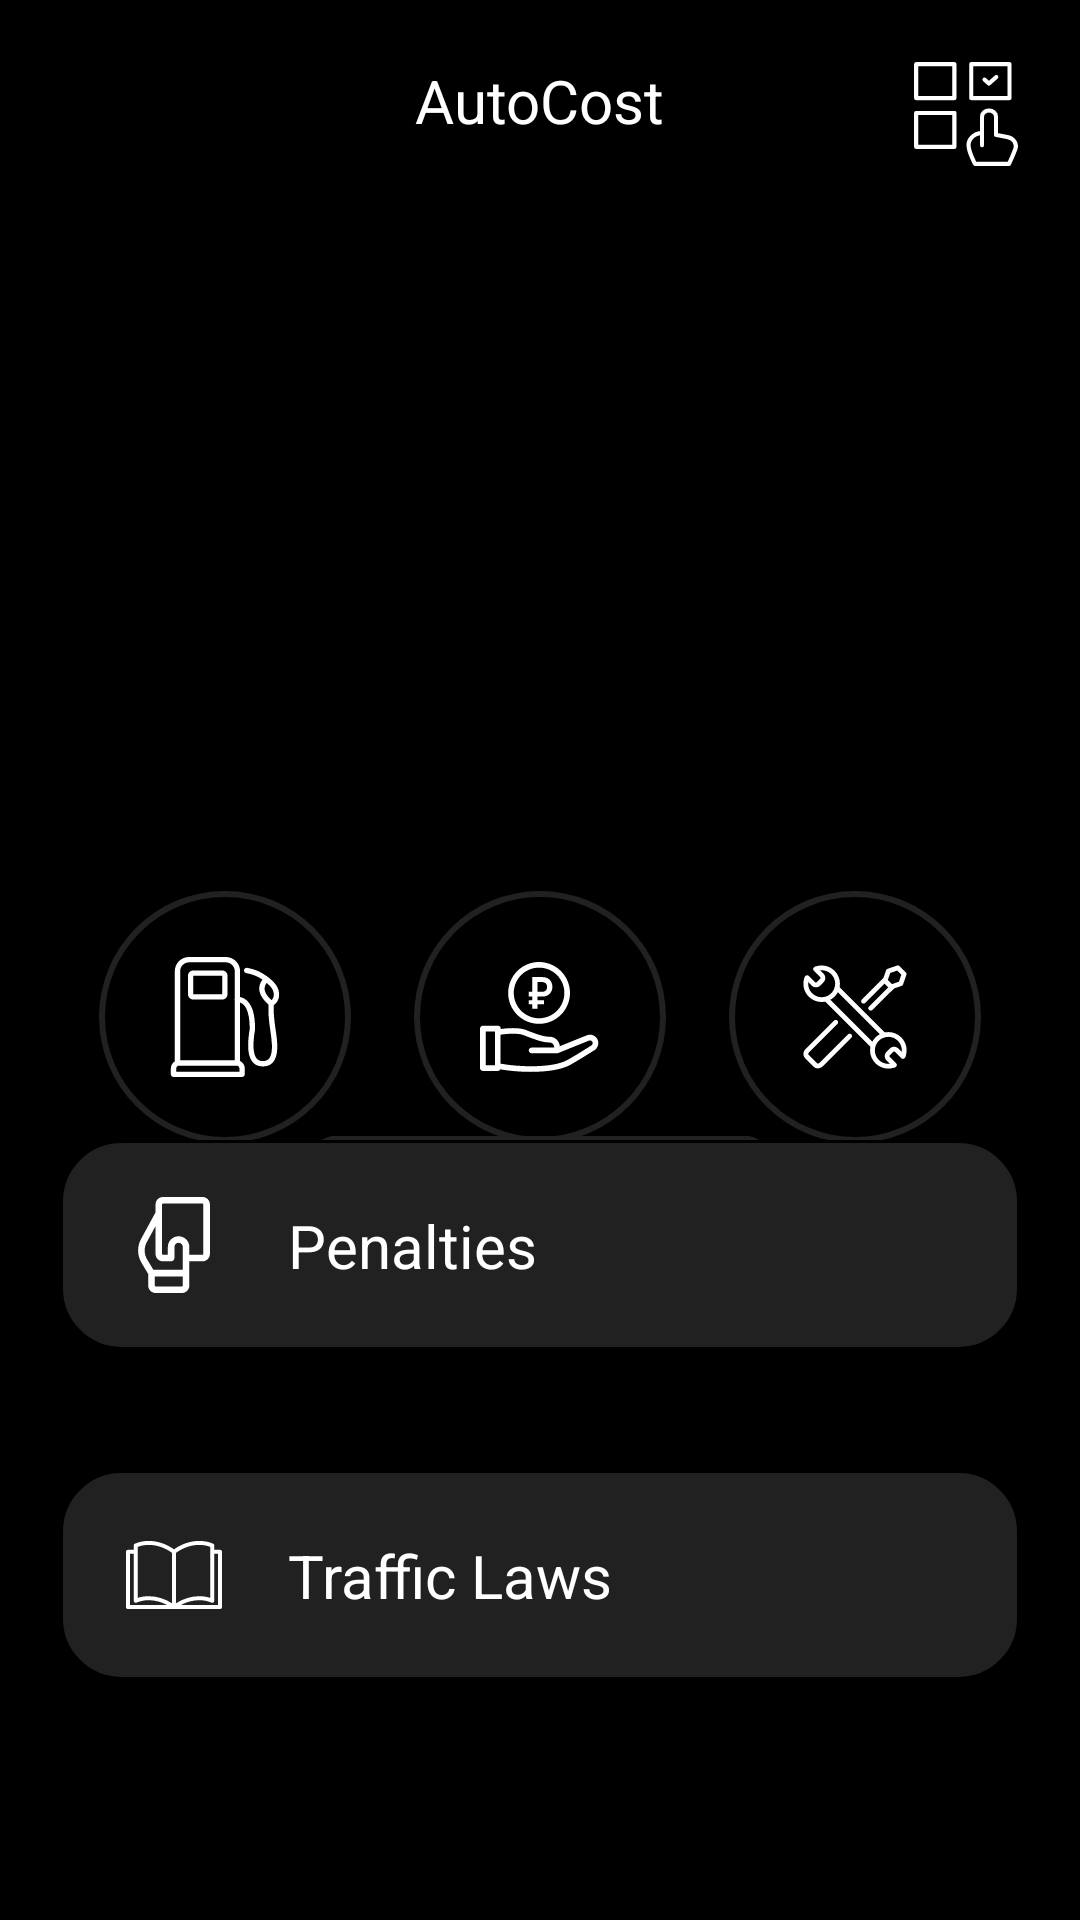

Point at icon controls on the screen. Image size 1080*1920, points as point (x, y).
book: point (174, 1575)
oil expense: point (224, 1017)
other expenses: point (539, 1017)
repair expense: point (855, 1017)
